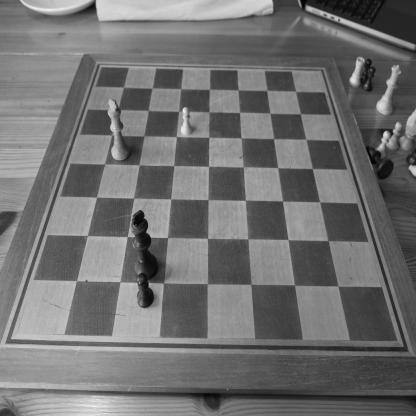black-king: (130, 209, 158, 280)
black-pawn: (136, 272, 154, 309), (361, 66, 376, 92), (359, 59, 372, 83)
white-bishop: (366, 144, 394, 180)
white-king: (107, 98, 131, 162)
white-knight: (398, 107, 415, 152)
white-pawn: (386, 122, 404, 152), (375, 130, 391, 159), (180, 107, 192, 136)
white-queen: (375, 64, 403, 116)
white-rook: (348, 56, 366, 88)
